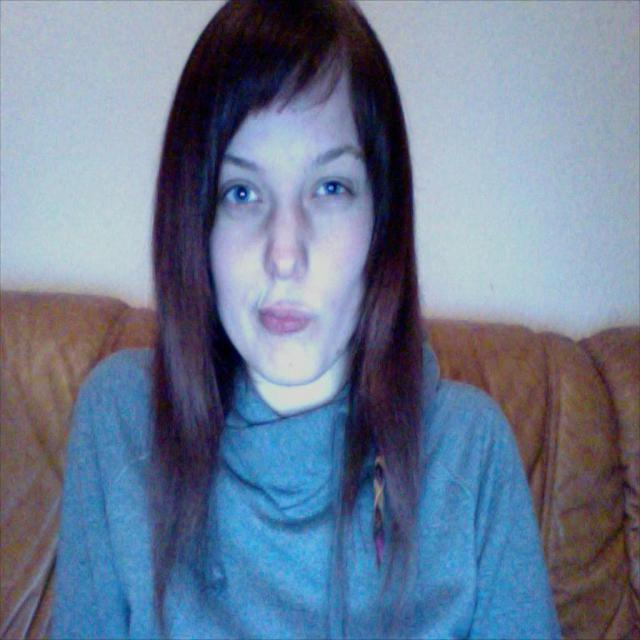closed-mouth: (256, 294, 321, 342)
